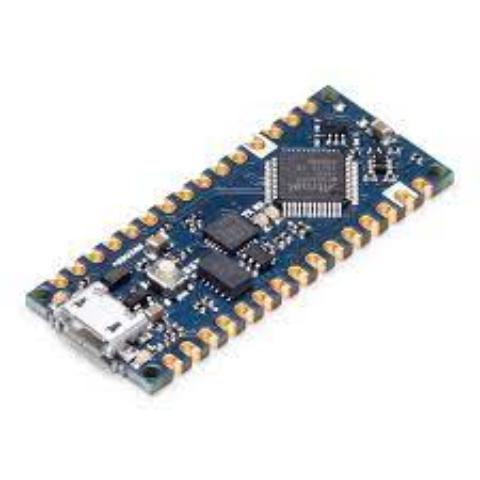Arduino-Nano: (22, 84, 456, 398)
